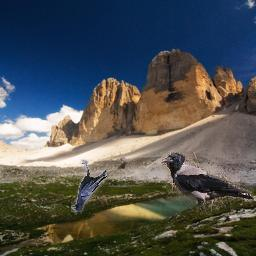Crow: (162, 153, 254, 216), (71, 160, 107, 213)
